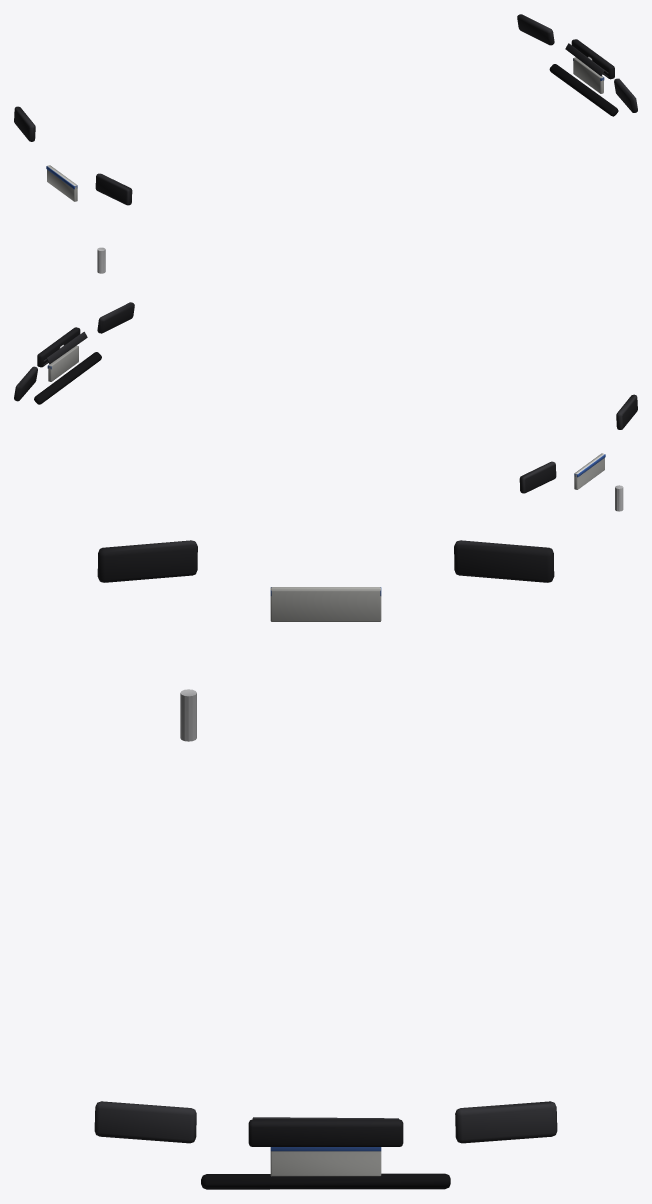
The model's file is Details.glb.
3 views of the same model, one above another, from view 1: azimuth 30°, elevation 25°; view 2: azimuth 150°, elevation 25°; view 3: azimuth 270°, elevation 25° (orthographic). The views are drawn at different scales.
Parts seen in each view (by area): view 1: Details; view 2: Details; view 3: Details.
Boxes of the visible parts, <box> form: Details: <box>14,14,637,273</box>; Details: <box>14,302,637,511</box>; Details: <box>94,540,557,1189</box>.
Size of the model in its own units: 4.46 by 0.7786 by 1.67.
